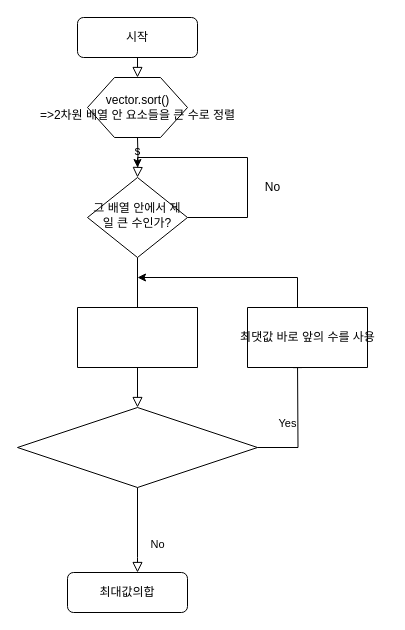
Some shapes in this 405 by 630 pixel diagram are drawn without their labels. The centre of each missing label's shape, as x and y in pixels:
pop_back을 통해 land[i][j] 최댓값 출력: the point at 137,337
지금 고른 배열의 최댓값 열 인덱스와 다음 배열의 최댓값 열 인덱스가 같은가??: the point at 137,447
